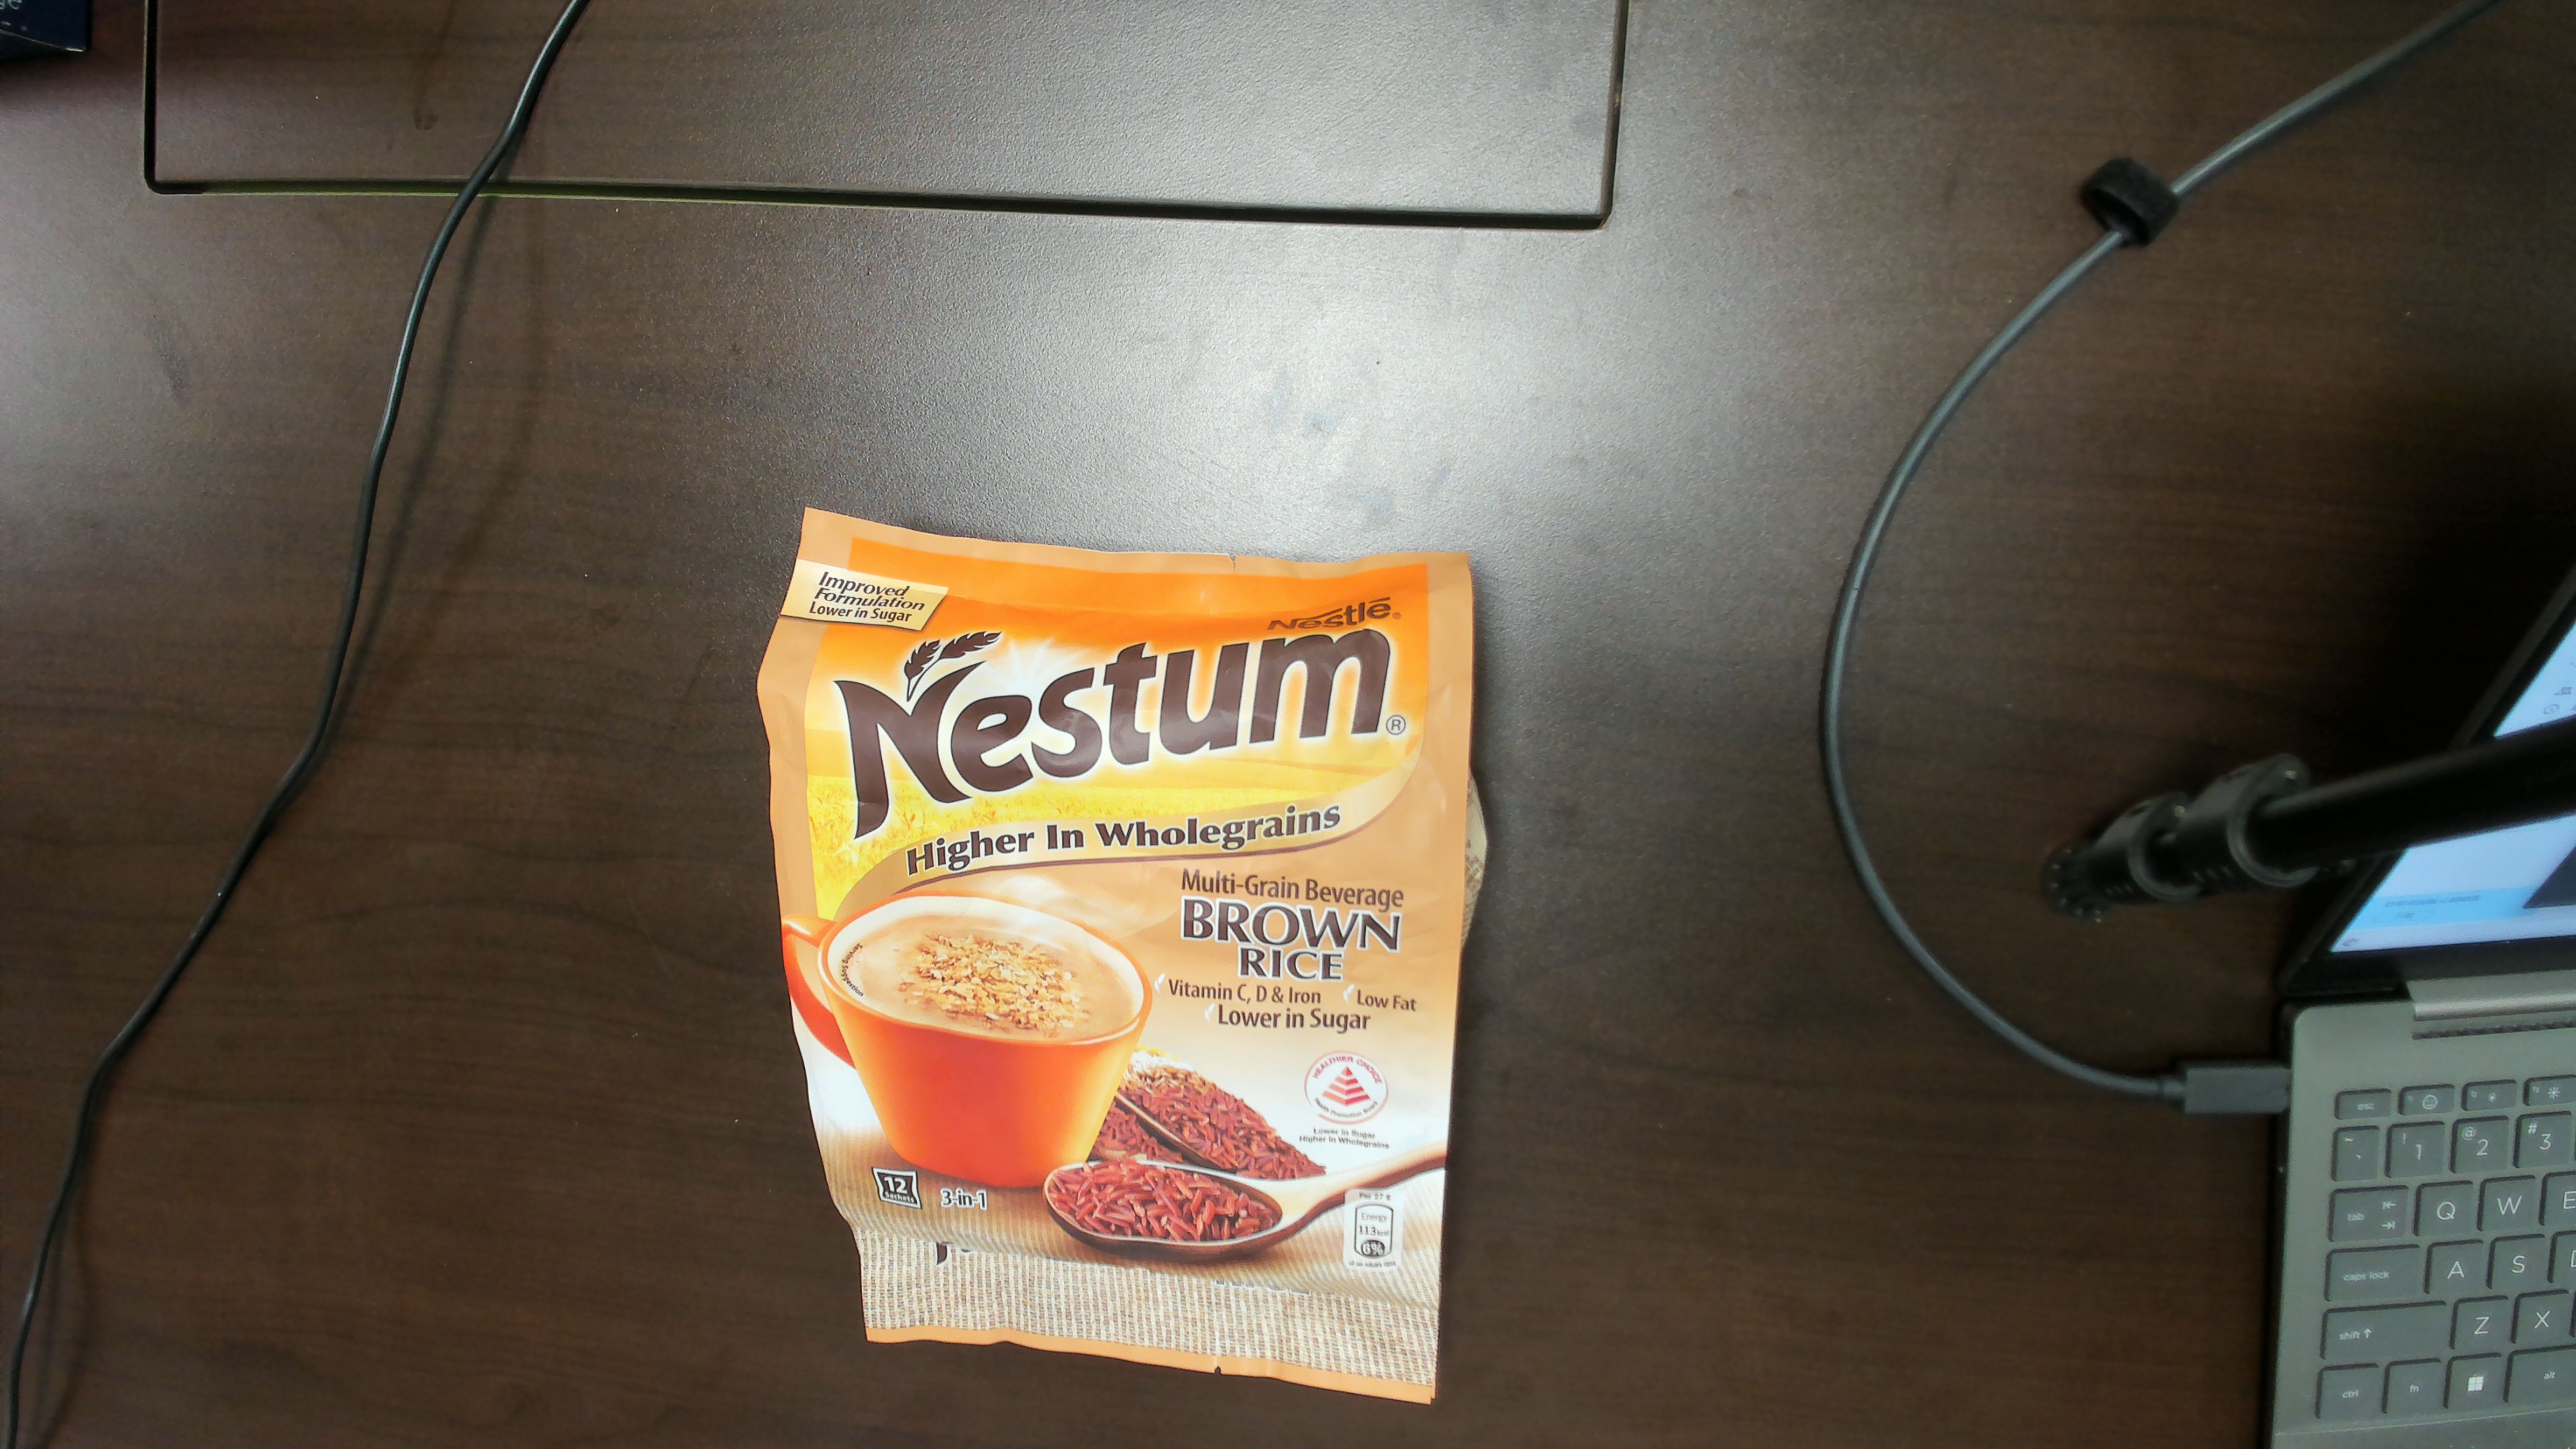CerealBeverage-powder_300-399g_NonHalal_Healthy: (839, 598, 1410, 1263)
